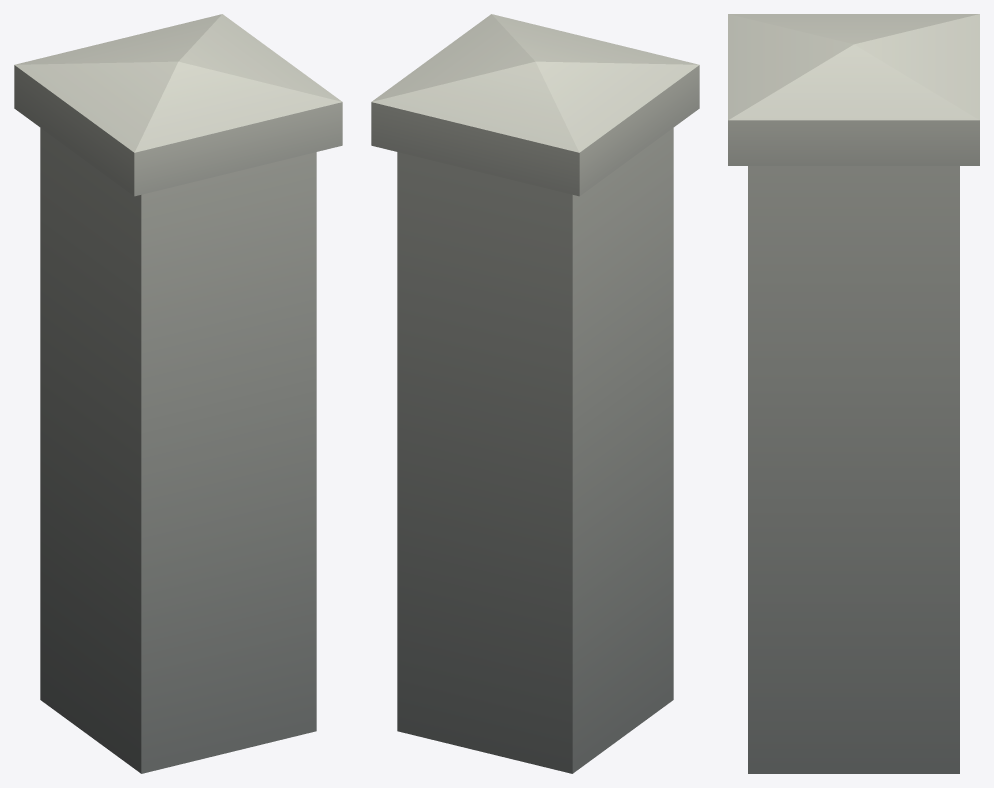
The model's file is Wall_Column_01.fbx.
3 views of the same model, side by side, from view 1: azimuth 30°, elevation 25°; view 2: azimuth 150°, elevation 25°; view 3: azimuth 270°, elevation 25° (orthographic). The views are drawn at different scales.
Parts seen in each view (by area): view 1: Wall_Column_01; view 2: Wall_Column_01; view 3: Wall_Column_01.
Boxes of the visible parts, <box> form: Wall_Column_01: <box>14,14,342,773</box>; Wall_Column_01: <box>371,14,699,773</box>; Wall_Column_01: <box>728,14,979,773</box>.
Size of the model in its own units: 100 by 300 by 100.
